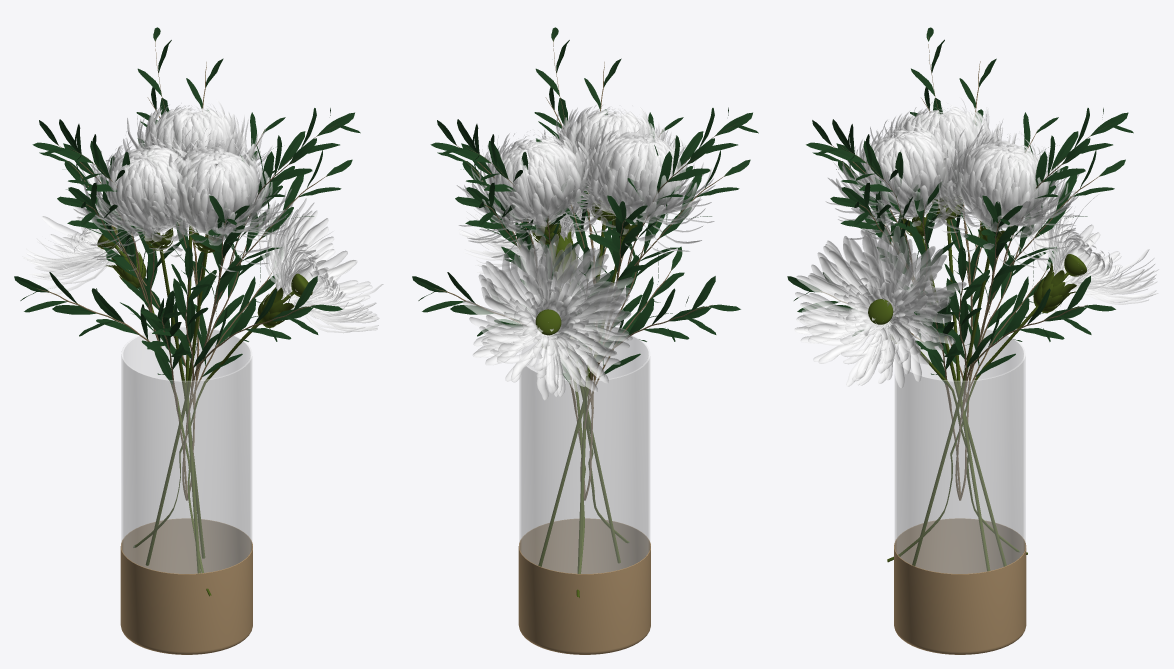
Rendered from bouquet_1736584796021.glb.
3 views of the same model, side by side, from view 1: azimuth 30°, elevation 25°; view 2: azimuth 150°, elevation 25°; view 3: azimuth 270°, elevation 25° (orthographic).
Size of the model in its own units: 1.78 by 3 by 1.85.
